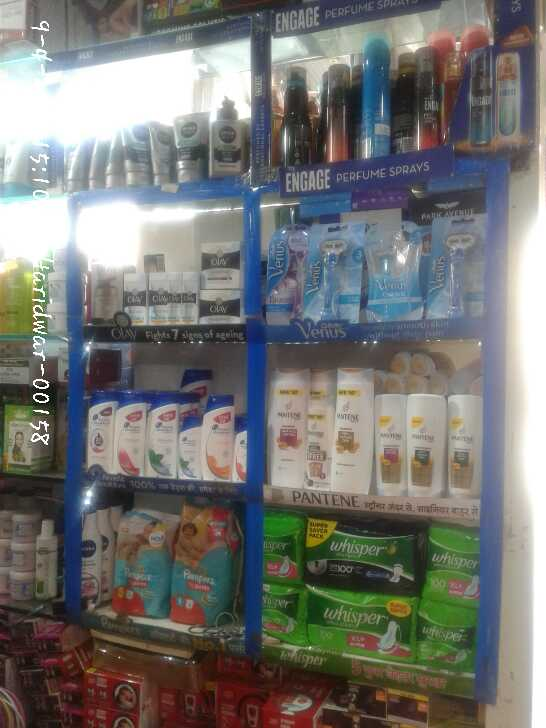venus: (426, 214, 490, 321), (366, 218, 426, 321), (309, 218, 366, 321), (270, 226, 309, 321)
